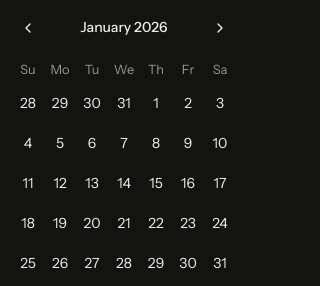
Test: Calendar › navigates between months
Click the button named "next": (220, 28) [204, 12, 236, 44]
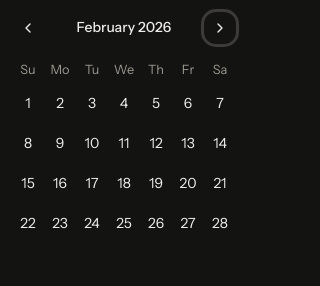
expect the text "February 2026" is shown: met, box [77, 17, 171, 39]
Click the button named "previous": (28, 28) [12, 12, 44, 44]
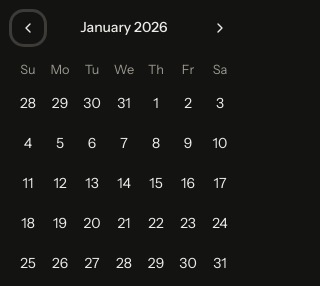
expect the text "January 2026" is shown: met, box [80, 17, 168, 39]
